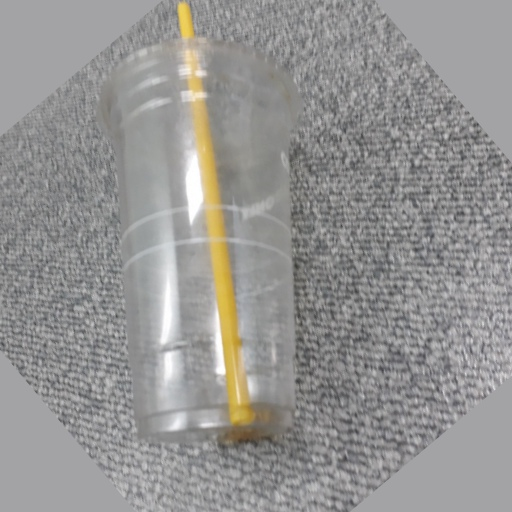Plastic_2: (96, 5, 308, 445)
